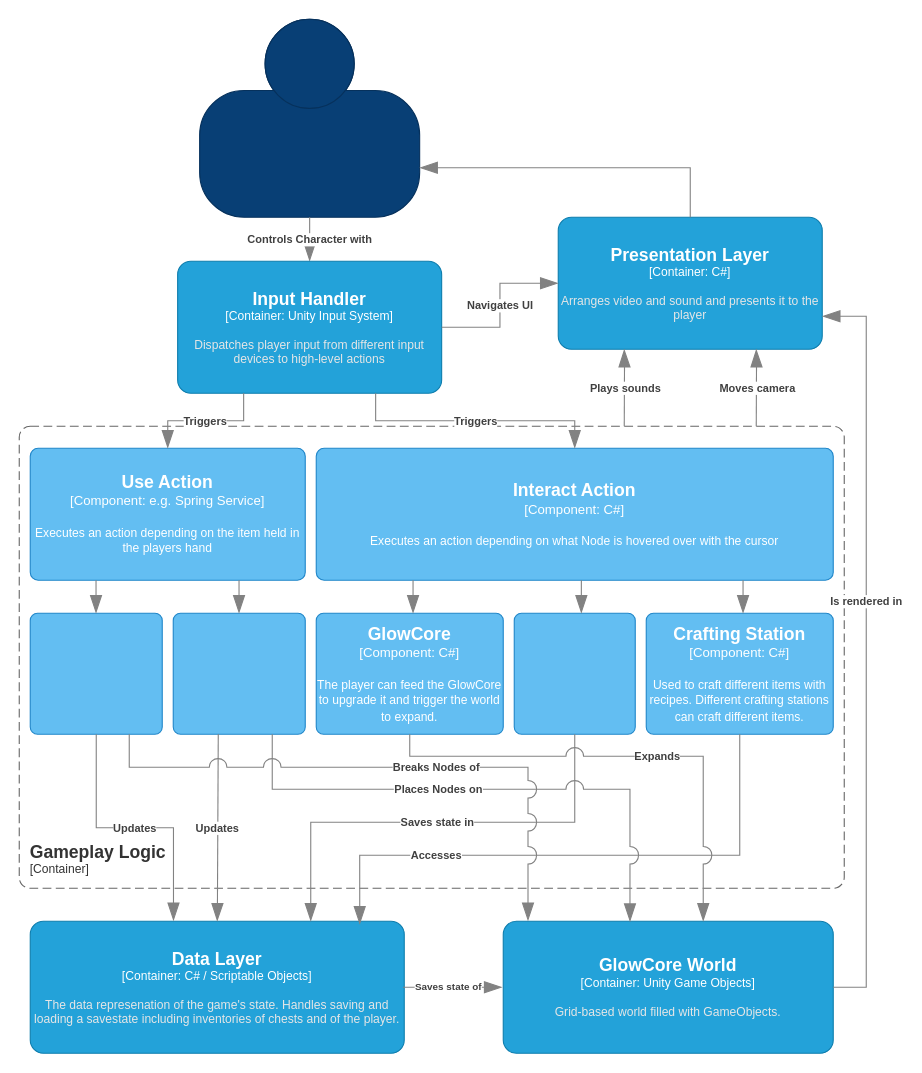
Some shapes in this 922 by 1073 pixel diagram are drawn without their labels. Each missing label, with the centre of its shape:
"Block [Component: C#] Places Nodes" goes at pixel 238 673.
"Chest [Component: C#] Stores items" goes at pixel 574 673.
"Player [Person] Description of person." goes at pixel 309 117.
"Tool [Component: C#] Breaks Nodes" goes at pixel 95 673.
